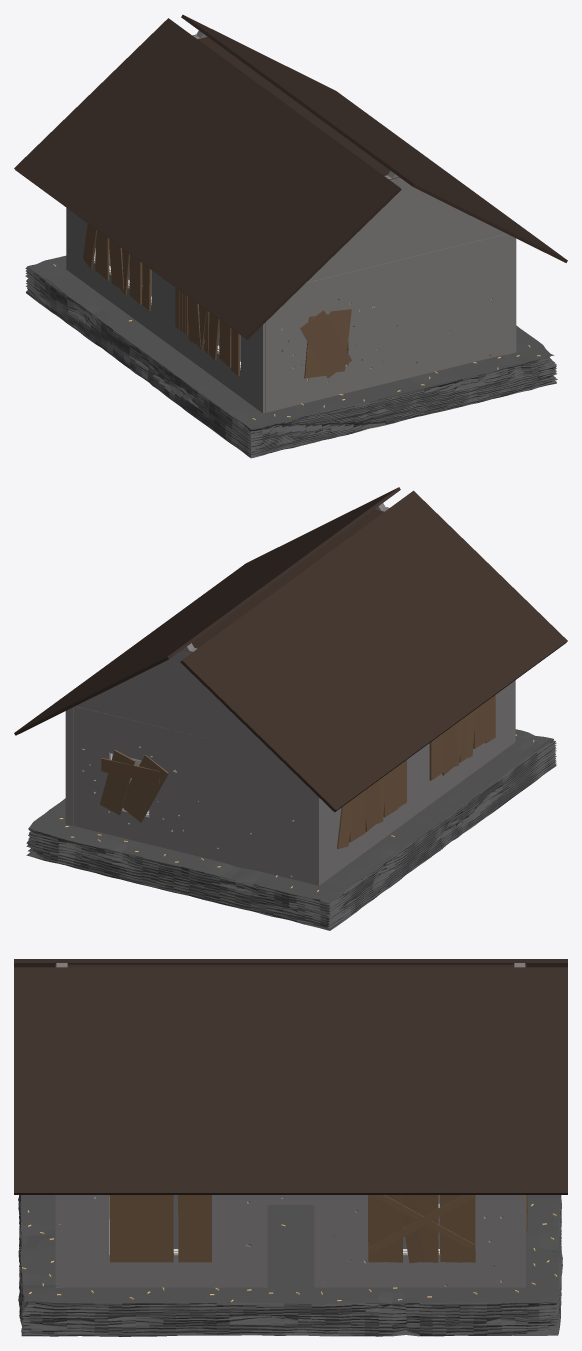
The model's file is PoorMan'sRoom (1).fbx.
3 views of the same model, one above another, from view 1: azimuth 30°, elevation 25°; view 2: azimuth 150°, elevation 25°; view 3: azimuth 270°, elevation 25° (orthographic). The views are drawn at different scales.
Visible parts, largest first — view 1: Cube.058, Cube.006, Cube.004, Cube.057, Cube.002, Cube.101, Plane, Cube.117, Cube.100, Cube.098, Cube.099, Cube.087 (+5 smaller); view 2: Cube.058, Cube.004, Cube.005, Cube.057, Cube.002, Cube.059, Plane, Cube.060, Cube.124, Cube.062, Cube.001, Cube.123 (+10 smaller); view 3: Cube.057, Cube.004, Cube.001, Cube.058, Plane, Cube.126, Cube.128, Cube.132, Cube.103, Cube.130, Cube.104, Cube.105 (+16 smaller).
Boxes of the visible parts, x1,y1,x2,y2 form: Cube.058: (14,18,401,339); Cube.006: (265,234,515,412); Cube.004: (25,255,557,458); Cube.057: (181,14,567,262); Cube.002: (66,208,265,413); Cube.101: (374,175,405,265); Plane: (192,34,399,179); Cube.117: (300,310,351,378); Cube.100: (404,194,435,258); Cube.098: (343,216,374,273); Cube.099: (435,206,460,251); Cube.087: (453,211,495,239); Cube.058: (180,490,567,812); Cube.004: (26,729,556,930); Cube.005: (74,706,310,883); Cube.057: (14,487,400,735); Cube.002: (310,680,515,885); Cube.059: (176,648,207,738); Plane: (182,507,389,652); Cube.060: (146,666,177,730); Cube.124: (122,755,168,822); Cube.062: (207,689,238,745); Cube.001: (65,707,141,825); Cube.123: (100,750,135,815); Cube.057: (14,967,567,1194); Cube.004: (18,1195,562,1336); Cube.001: (56,1195,525,1287); Cube.058: (14,959,567,967); Plane: (55,964,526,967); Cube.126: (440,1195,463,1262); Cube.128: (382,1195,402,1262); Cube.132: (415,1195,438,1262); Cube.103: (368,1195,473,1254); Cube.130: (402,1195,425,1263); Cube.104: (368,1195,382,1262); Cube.105: (463,1195,475,1262).
Bounding box in the file's own units: 3799 × 2674 × 4733.
